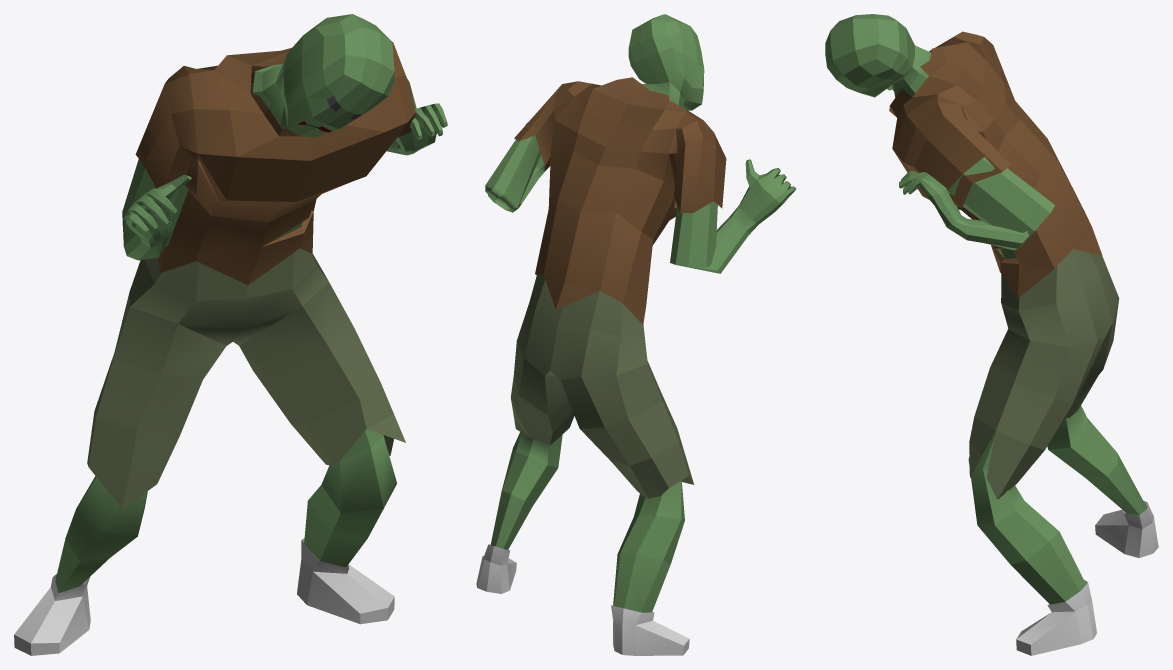
Rendered from ZombieAttack(66).obj.
3 views of the same model, side by side, from view 1: azimuth 30°, elevation 25°; view 2: azimuth 150°, elevation 25°; view 3: azimuth 270°, elevation 25° (orthographic). The views are drawn at different scales.
Visible parts, largest first — view 1: Object001; view 2: Object001; view 3: Object001.
Boxes of the visible parts, x1,y1,x2,y2 form: Object001: [14, 14, 447, 655]; Object001: [476, 14, 796, 655]; Object001: [825, 14, 1158, 655].
Bounding box in the file's own units: 25.99 × 50.56 × 26.2.
